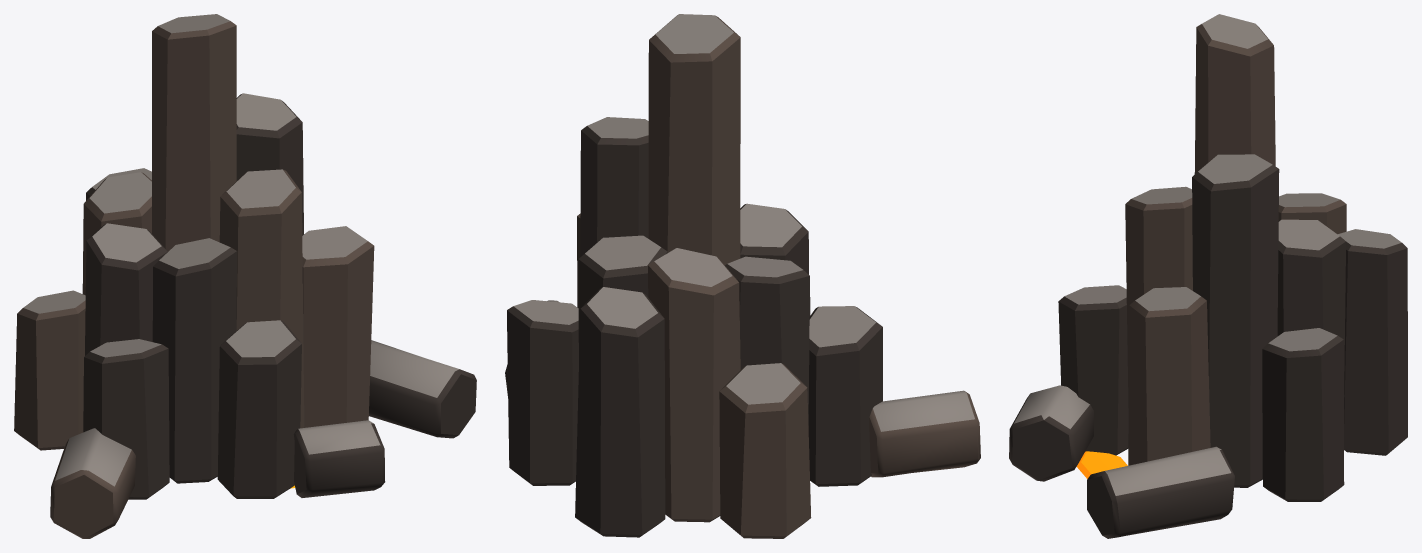
The model's file is basalt_columns.glb.
3 views of the same model, side by side, from view 1: azimuth 30°, elevation 25°; view 2: azimuth 150°, elevation 25°; view 3: azimuth 270°, elevation 25° (orthographic). The views are drawn at different scales.
Parts seen in each view (by area): view 1: basalt_columns; view 2: basalt_columns; view 3: basalt_columns.
Part boxes in pixels (x1=…): basalt_columns: x1=14, y1=14, x2=476, y2=538; basalt_columns: x1=505, y1=14, x2=980, y2=538; basalt_columns: x1=1009, y1=14, x2=1407, y2=538.
Bounding box in the file's own units: 3.33 × 3.14 × 2.7.
